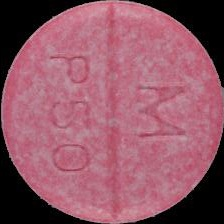51079-129: (0, 0, 224, 224)
